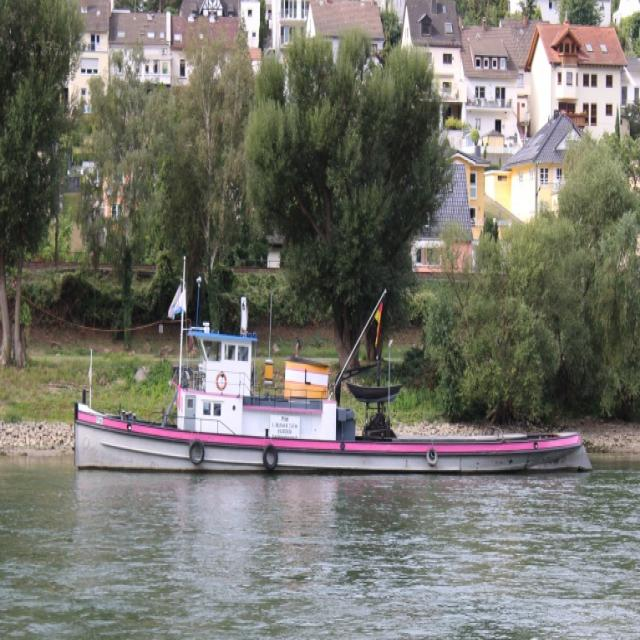tugboat: (71, 252, 598, 492)
